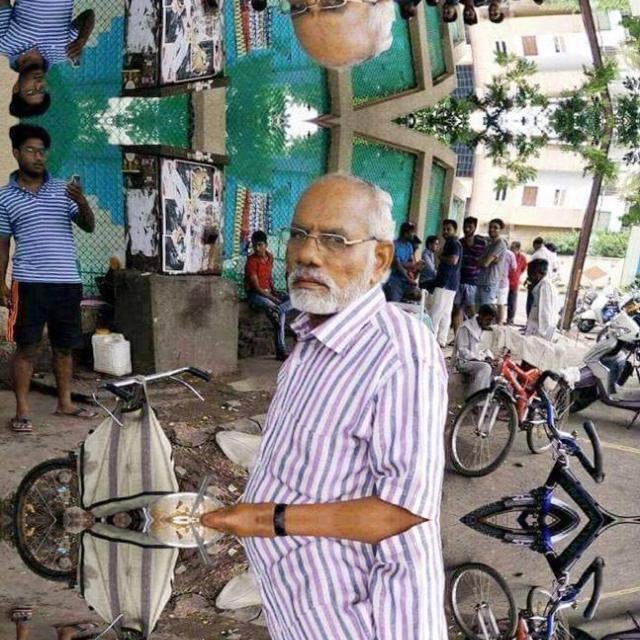person: (254, 150, 408, 348), (254, 0, 408, 89), (1, 124, 57, 190), (1, 50, 57, 116)
